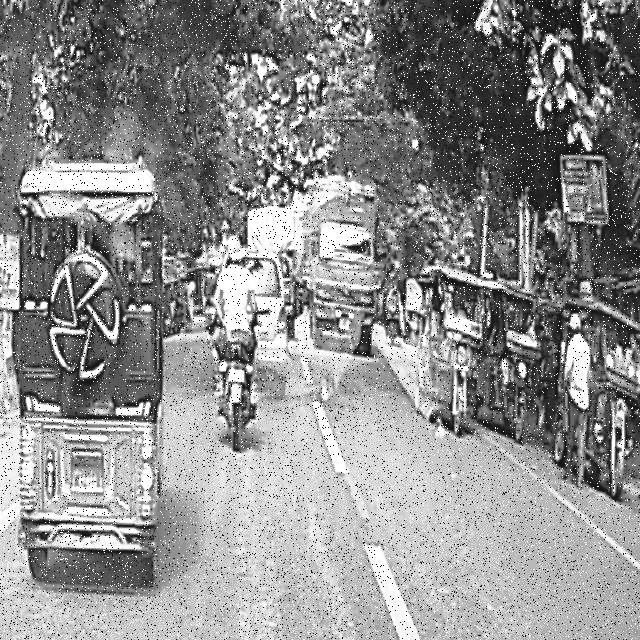Toto: (18, 152, 172, 582), (551, 297, 639, 501), (416, 260, 487, 430), (482, 278, 540, 444)
